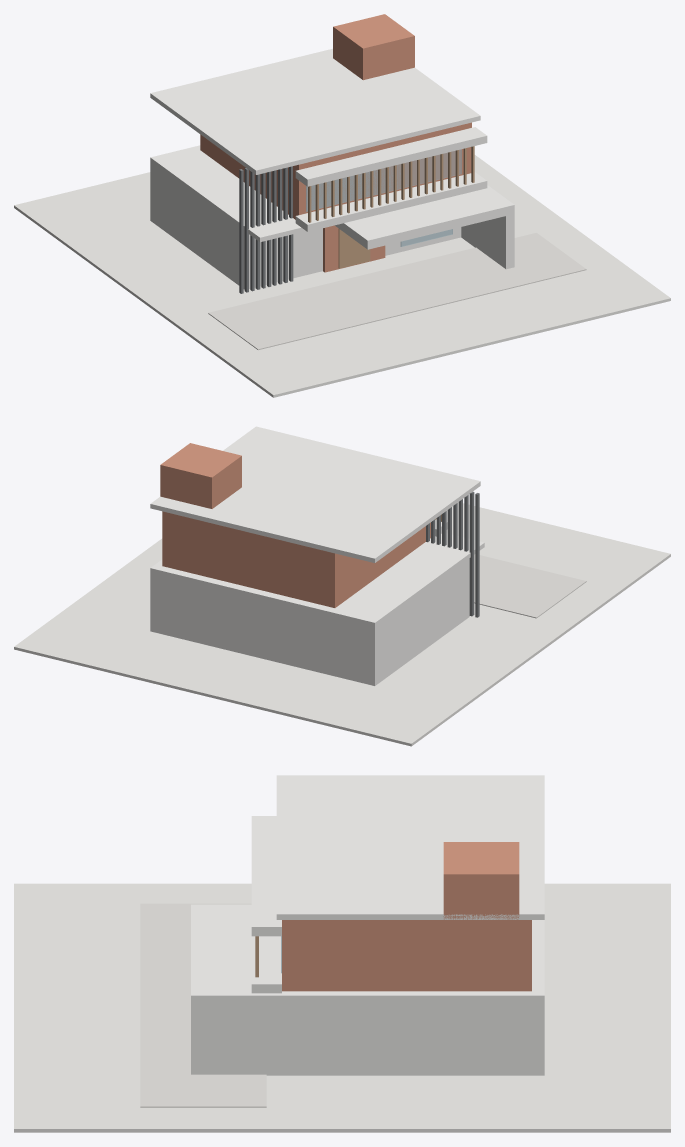
The model's file is duplex-renovation-moulvibazar.glb.
3 renders of one model, top to bottom at view 1: azimuth 30°, elevation 25°; view 2: azimuth 150°, elevation 25°; view 3: azimuth 270°, elevation 25°, orthographic. The views are drawn at different scales.
Parts seen in each view (by area): view 1: site-site, roof-white, site-paving, floor-0-white, floor-1-white, floor-1-brick, floor-0-dark, roof-brick, floor-1-timber, floor-1-glass, floor-0-brick, floor-0-timber; view 2: site-site, roof-white, floor-0-white, floor-1-brick, floor-1-white, site-paving, roof-brick, floor-0-dark; view 3: site-site, floor-0-white, roof-white, floor-1-brick, site-paving, floor-1-white, roof-brick.
Part boxes in pixels (<box>): site-site: <box>14,155,670,397</box>; roof-white: <box>150,48,480,174</box>; site-paving: <box>208,233,586,350</box>; floor-0-white: <box>150,159,514,289</box>; floor-1-white: <box>150,127,487,242</box>; floor-1-brick: <box>200,122,471,219</box>; floor-0-dark: <box>239,166,293,293</box>; roof-brick: <box>333,14,414,80</box>; floor-1-timber: <box>308,146,474,222</box>; floor-1-glass: <box>306,149,461,211</box>; floor-0-brick: <box>323,225,385,272</box>; floor-0-timber: <box>338,229,370,268</box>; site-site: <box>14,502,670,746</box>; roof-white: <box>150,426,480,562</box>; floor-0-white: <box>150,558,469,685</box>; floor-1-brick: <box>162,511,430,607</box>; floor-1-white: <box>150,519,484,624</box>; site-paving: <box>474,554,586,618</box>; roof-brick: <box>160,443,241,508</box>; floor-0-dark: <box>426,491,479,617</box>; site-site: <box>14,883,670,1132</box>; floor-0-white: <box>191,904,544,1075</box>; roof-white: <box>276,775,544,919</box>; floor-1-brick: <box>282,920,531,991</box>; site-paving: <box>140,903,266,1107</box>; floor-1-white: <box>251,816,544,1001</box>; roof-brick: <box>443,842,519,919</box>.
Size of the model in its own units: 23 by 8.95 by 26.
